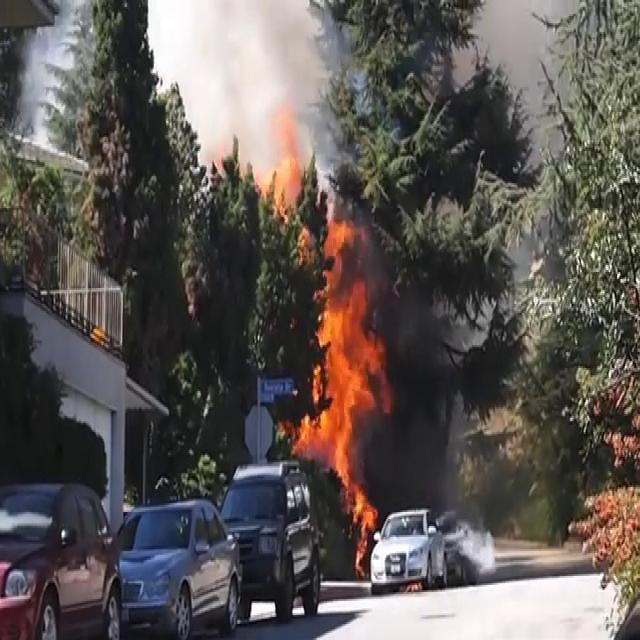Fire: (291, 220, 388, 552)
Smoke: (370, 238, 480, 519)
